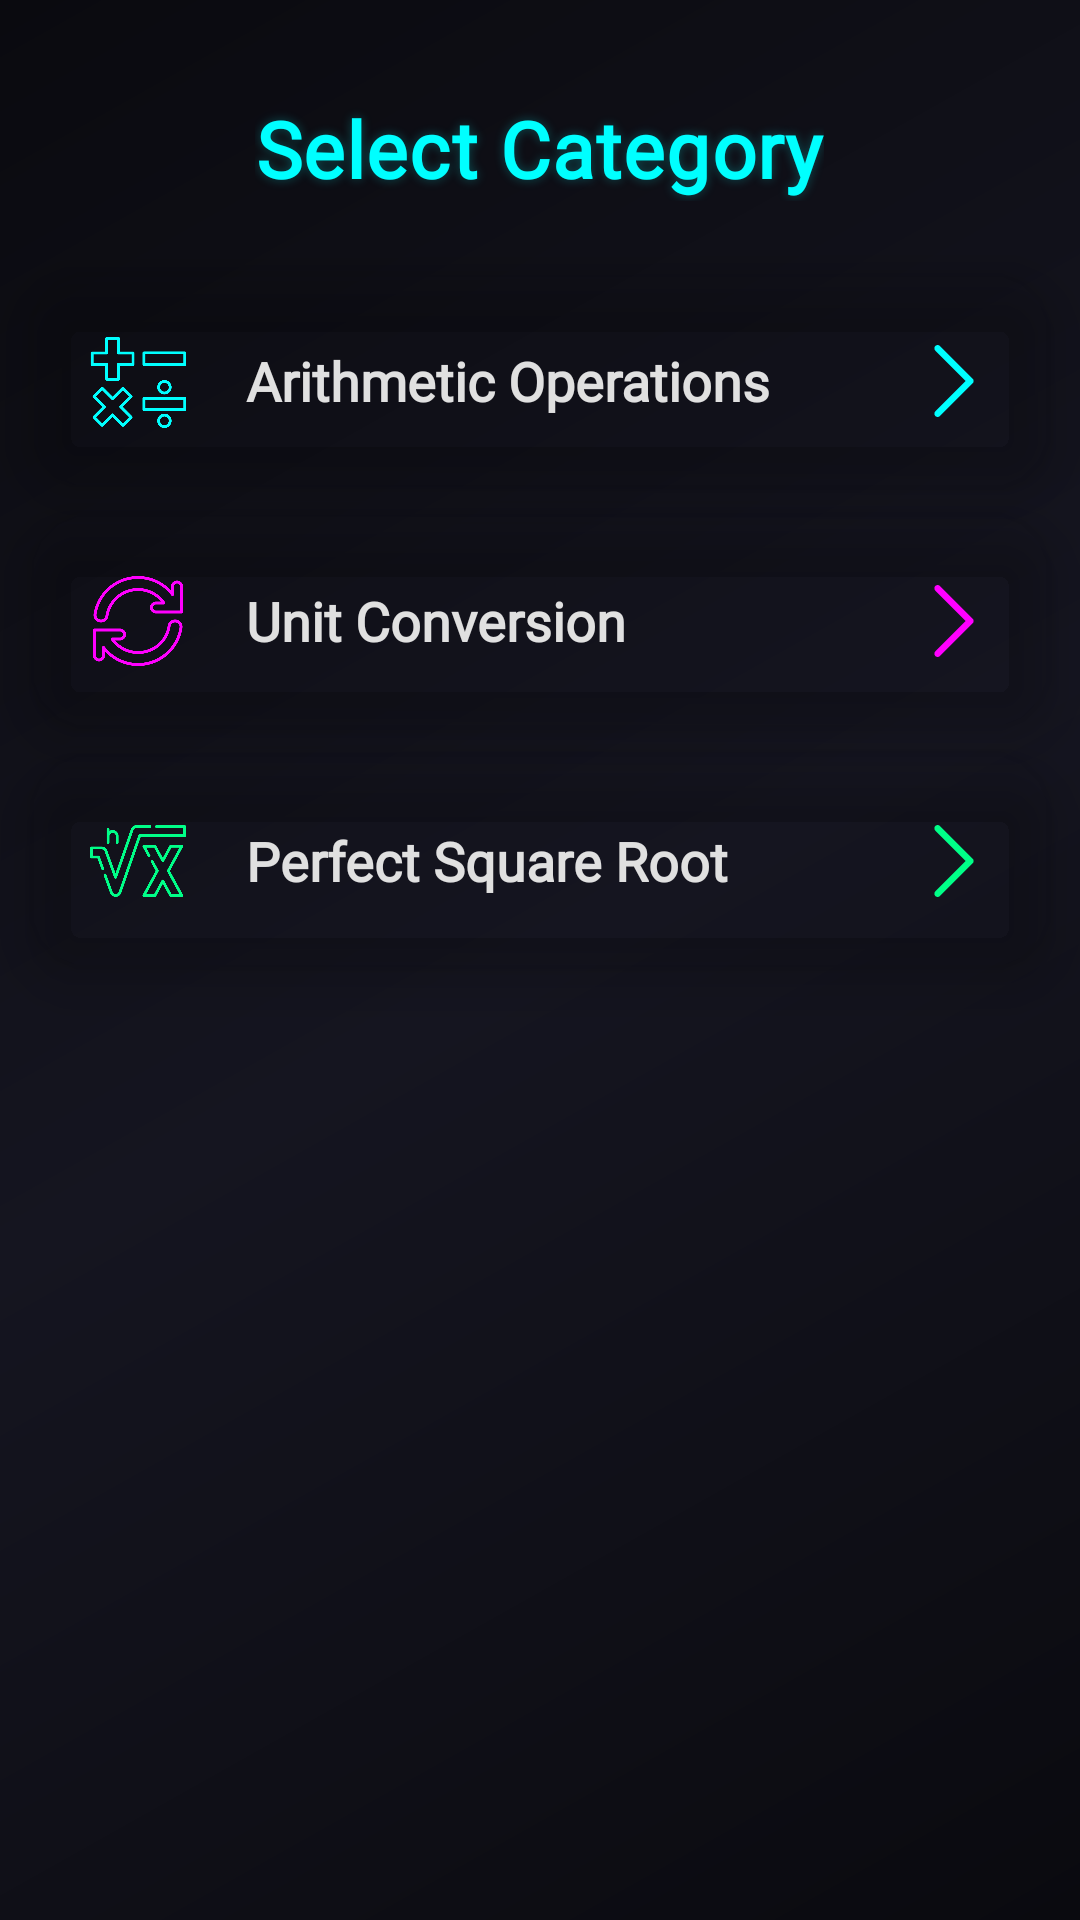

Icons on this 1080 × 1920 Android screen, each with its box as box(x1, y1, x2, y2):
Arrow: box(934, 345, 974, 417), box(934, 585, 974, 657), box(934, 825, 974, 897)
